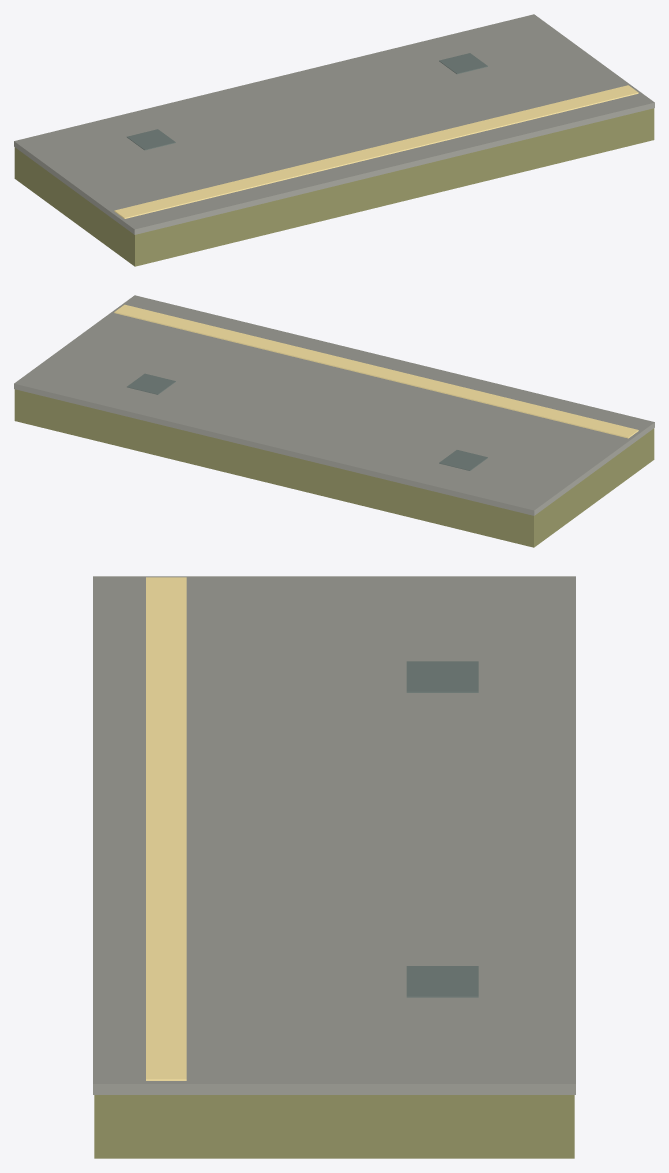
The model's file is SM_KitAnden_v0_LOD0.fbx.
3 renders of one model, top to bottom at view 1: azimuth 30°, elevation 25°; view 2: azimuth 150°, elevation 25°; view 3: azimuth 270°, elevation 25°, orthographic. The views are drawn at different scales.
Visible parts, largest first — view 1: SM_bloques.kit_anden_v0_LOD0; view 2: SM_bloques.kit_anden_v0_LOD0; view 3: SM_bloques.kit_anden_v0_LOD0.
Boxes of the visible parts, bbox=[...] form: SM_bloques.kit_anden_v0_LOD0: bbox=[14, 14, 654, 266]; SM_bloques.kit_anden_v0_LOD0: bbox=[14, 295, 654, 547]; SM_bloques.kit_anden_v0_LOD0: bbox=[93, 576, 575, 1158].
Size of the model in its own units: 10 by 0.71 by 4.02.
